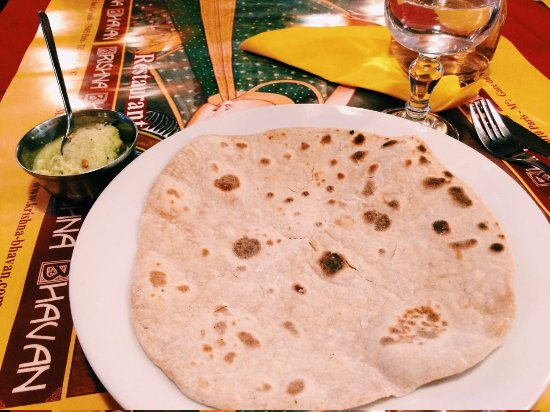curry: (29, 120, 128, 175)
roti: (135, 134, 490, 398)
